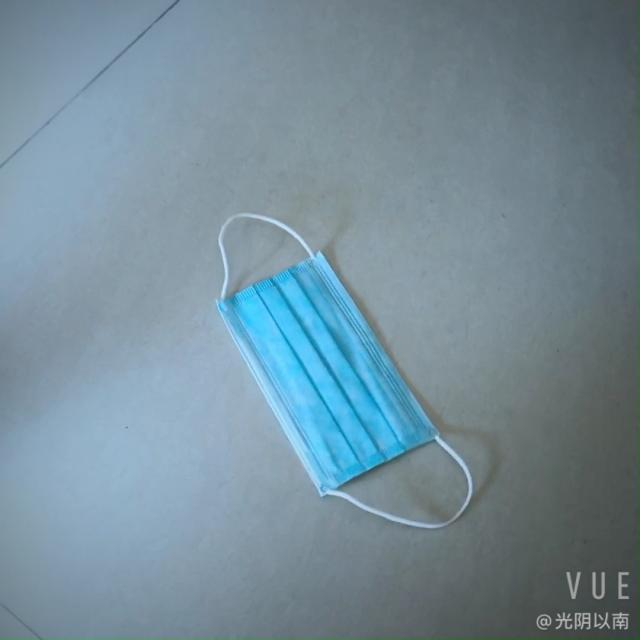face mask: (208, 243, 424, 484)
